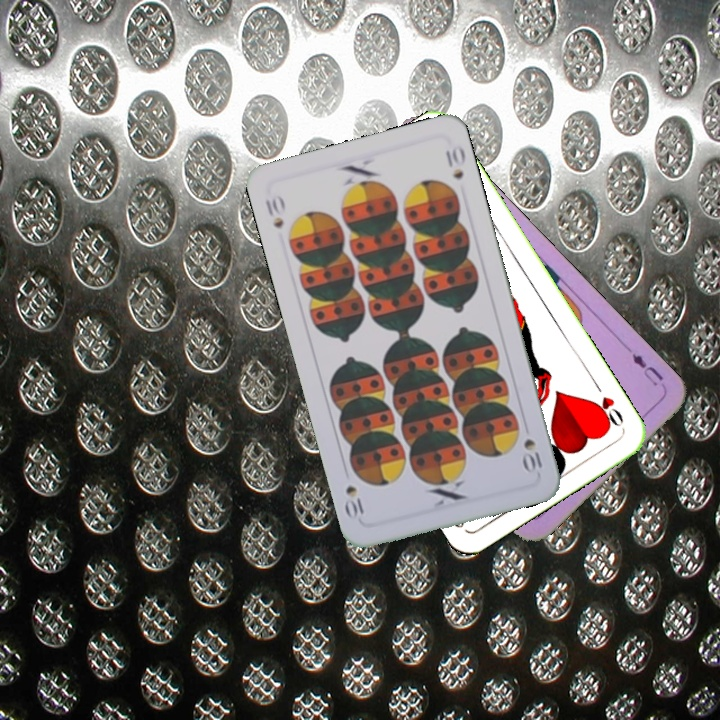EU: (627, 349, 667, 389)
HO: (589, 378, 627, 431)
S10: (519, 434, 545, 476), (261, 190, 287, 231)
